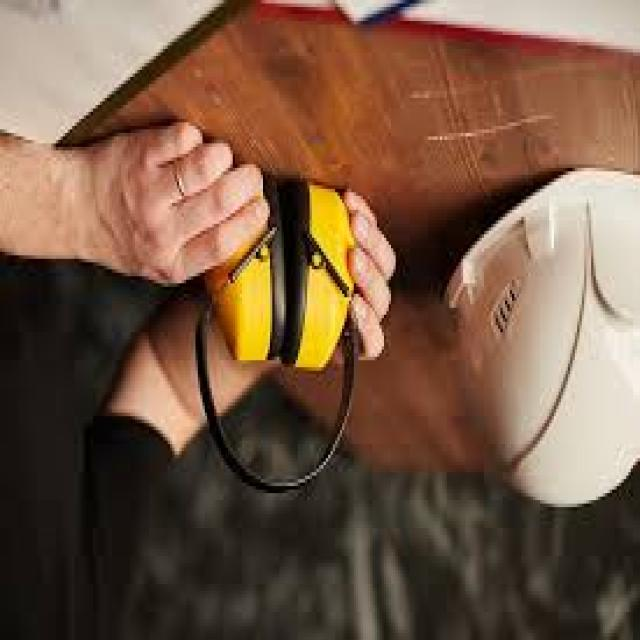Ear-Protection: (282, 182, 356, 378), (202, 185, 280, 368)
Helmet: (457, 144, 640, 537)
